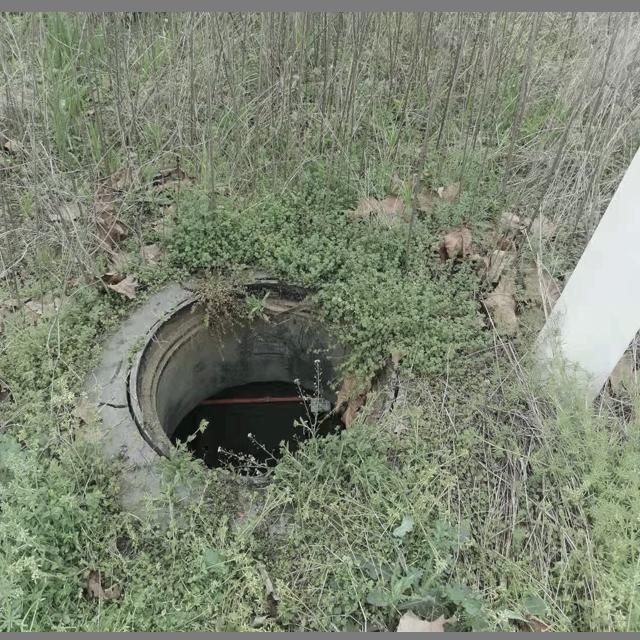lose: (129, 278, 404, 485)
